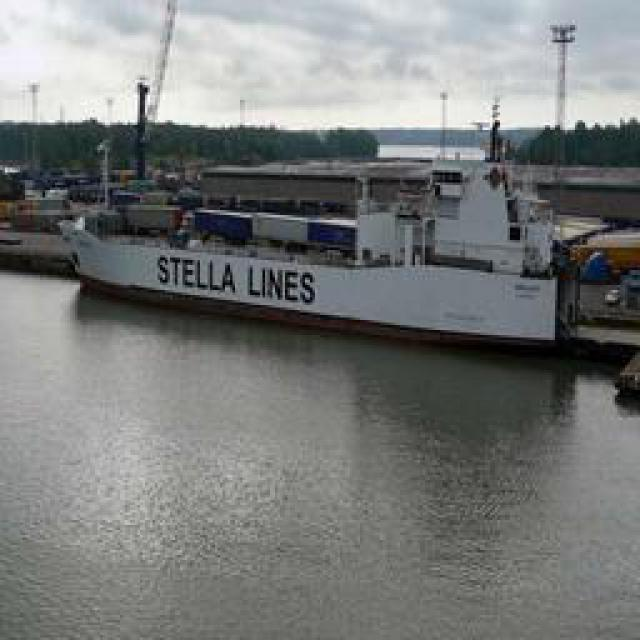Ship: (59, 186, 632, 359)
